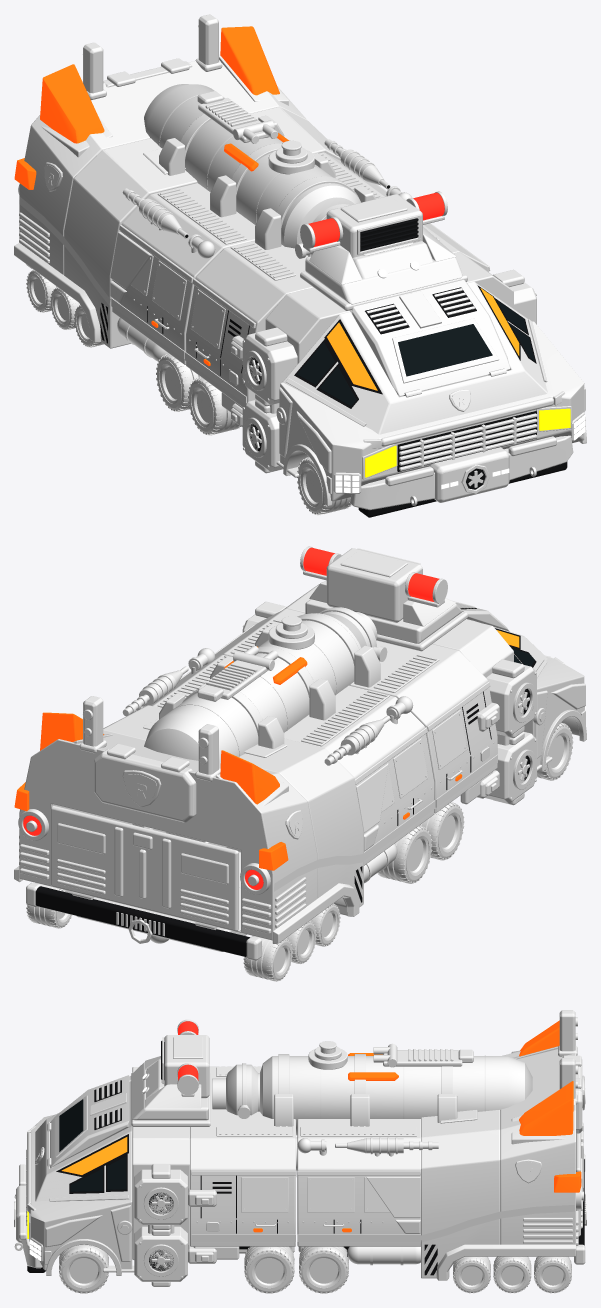
File: rescue_striker.glb
3 views of the same model, one above another, from view 1: azimuth 30°, elevation 25°; view 2: azimuth 150°, elevation 25°; view 3: azimuth 270°, elevation 25° (orthographic). The views are drawn at different scales.
Parts seen in each view (by area): view 1: R_HaunchA, R_HaunchB, Cannon_Tank, F_Greenhouse, F_LowerBody, F_MidBody, R_MidBody, Ramp_Cowl, F_Tower_R, F_TowerBay, R_Fin_R, Hatch_Base (+54 smaller); view 2: R_HaunchB, Door_Panel, Cannon_Tank, R_HaunchA, F_MidBody, R_MidBody, F_Tower_R, R_Crest, R_Step, Hatch_WhiteBox, Door_Ribs, F_TowerBay (+52 smaller); view 3: Cannon_Tank, R_HaunchA, F_MidBody, R_HaunchB, R_MidBody, F_Tower_L, F_LowerBody, F_Greenhouse, F_TowerBay, Ramp_Cowl, Wheel_1_L_Tire, Wheel_2_L_Tire (+59 smaller).
Part boxes in pixels (left/top/right/bottom): R_HaunchA: left=64, top=107, right=340, bottom=348; R_HaunchB: left=19, top=60, right=307, bottom=274; Cannon_Tank: left=144, top=84, right=360, bottom=248; F_Greenhouse: left=283, top=281, right=547, bottom=434; F_LowerBody: left=280, top=321, right=584, bottom=501; F_MidBody: left=186, top=223, right=488, bottom=407; R_MidBody: left=112, top=152, right=386, bottom=364; Ramp_Cowl: left=352, top=279, right=509, bottom=395; F_Tower_R: left=232, top=327, right=297, bottom=473; F_TowerBay: left=265, top=252, right=513, bottom=363; R_Fin_R: left=40, top=64, right=104, bottom=143; Hatch_Base: left=305, top=256, right=462, bottom=304; R_HaunchB: left=19, top=730, right=317, bottom=940; Door_Panel: left=50, top=805, right=238, bottom=931; Cannon_Tank: left=144, top=613, right=360, bottom=762; R_HaunchA: left=95, top=705, right=363, bottom=915; F_MidBody: left=215, top=608, right=497, bottom=813; R_MidBody: left=141, top=655, right=434, bottom=865; F_Tower_R: left=477, top=659, right=536, bottom=805; R_Crest: left=94, top=748, right=196, bottom=822; R_Step: left=35, top=886, right=249, bottom=956; Hatch_WhiteBox: left=326, top=548, right=422, bottom=622; Door_Ribs: left=57, top=823, right=228, bottom=924; F_TowerBay: left=285, top=584, right=513, bottom=677; Cannon_Tank: left=260, top=1056, right=532, bottom=1135; R_HaunchA: left=421, top=1110, right=500, bottom=1278; F_MidBody: left=190, top=1066, right=295, bottom=1246; R_HaunchB: left=500, top=1040, right=575, bottom=1244; R_MidBody: left=297, top=1119, right=420, bottom=1246; F_Tower_L: left=134, top=1164, right=216, bottom=1286; F_LowerBody: left=30, top=1114, right=132, bottom=1270; F_Greenhouse: left=35, top=1076, right=132, bottom=1201; F_TowerBay: left=132, top=1067, right=189, bottom=1259; Ramp_Cowl: left=50, top=1075, right=129, bottom=1167; Wheel_1_L_Tire: left=244, top=1246, right=294, bottom=1293; Wheel_2_L_Tire: left=299, top=1246, right=348, bottom=1293.
Bounding box in the file's own units: 7.04 × 6.05 × 15.14.
